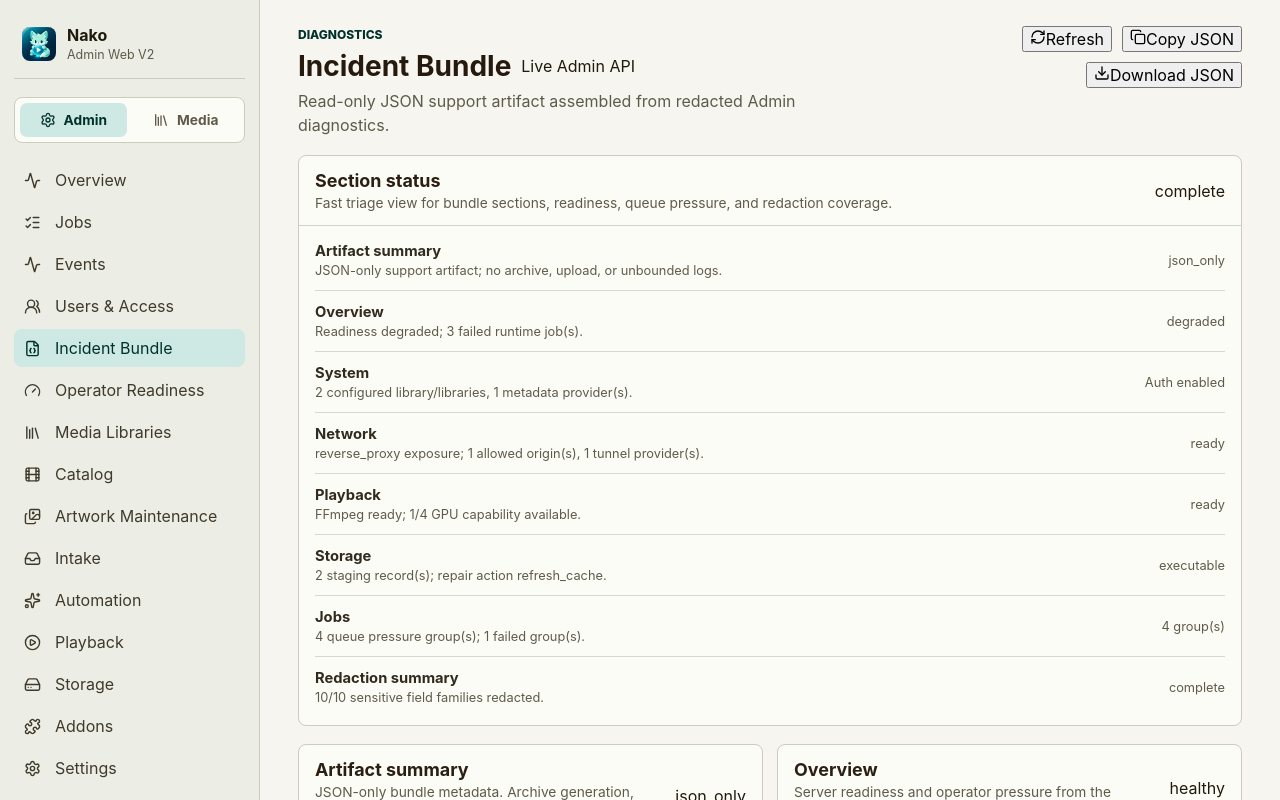
Scenario: Admin Web V2 route shell › copies only the redacted Incident Bundle JSON projection
Expected: the heading "Incident Bundle" is shown, [298,50,511,82]
Expected: the heading "Artifact summary" is shown, [315,759,468,780]
Click the button "Copy JSON".
click(1182, 39)  # box [1122,26,1242,52]
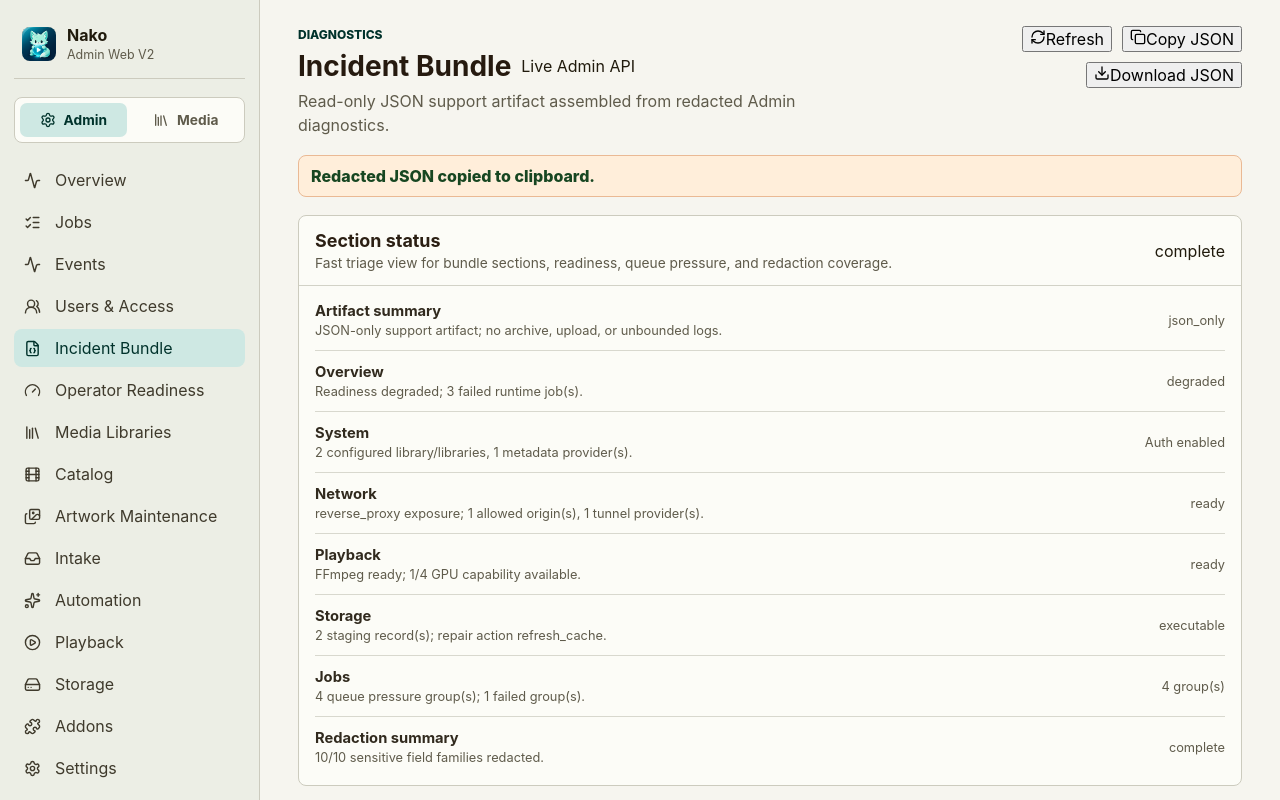
Result: the text "Redacted JSON copied to clipboard." is shown at [311,166,595,186]
